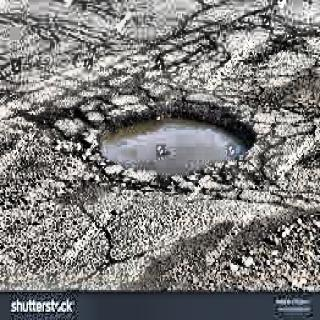pothole: (54, 84, 283, 180)
